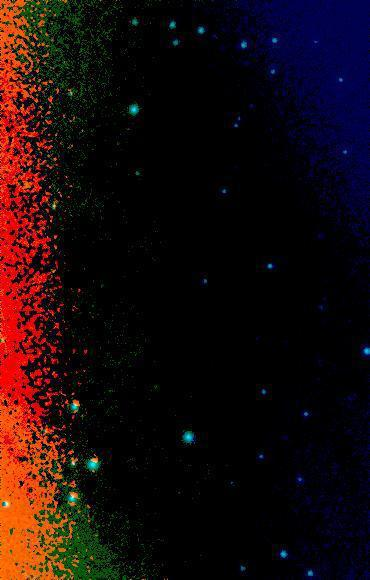star: (99, 274, 129, 304)
